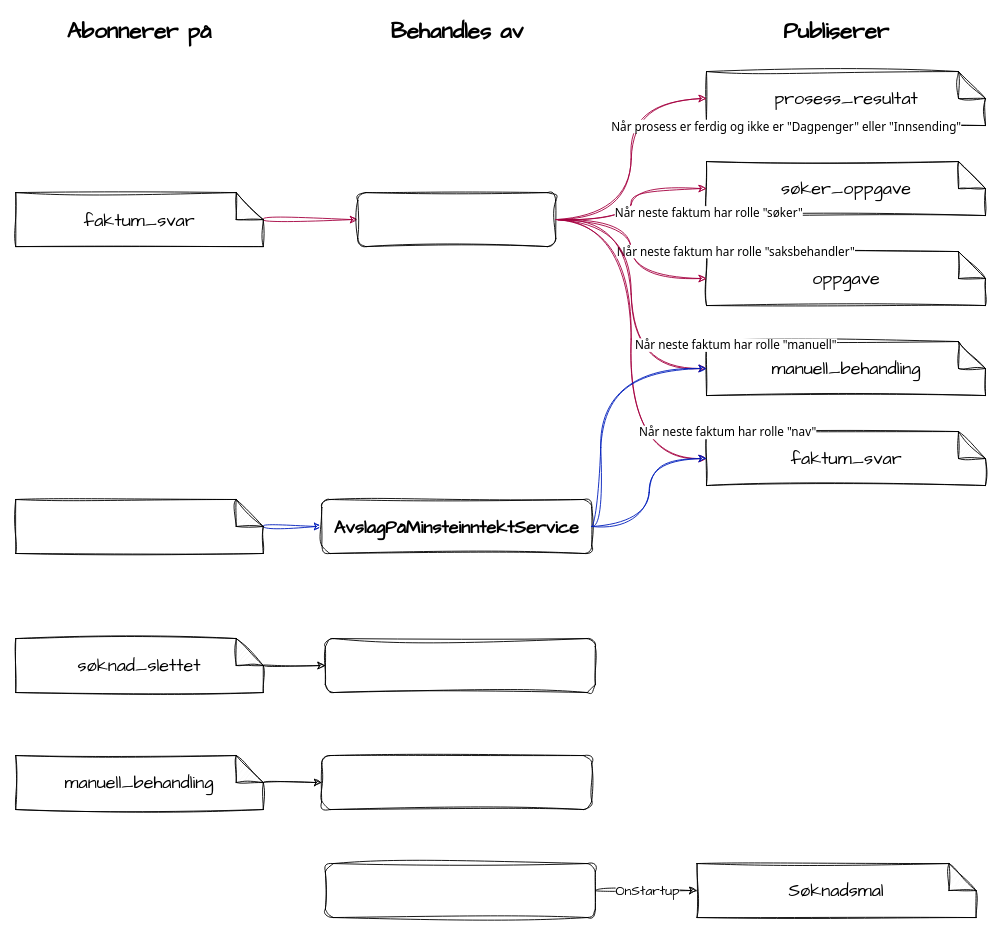
This 1002x933 diagram has some shape labels left out. Here are the shapes that lost their labels. From the top down, the centre of each, then its label:
At pixel 456 219: "FaktumSvarService".
At pixel 139 526: "innsending_ferdigstilt".
At pixel 459 665: "FaktaSlettetService".
At pixel 456 782: "ManuellBehandlingSink".
At pixel 459 890: "ApplicationBuilder".
